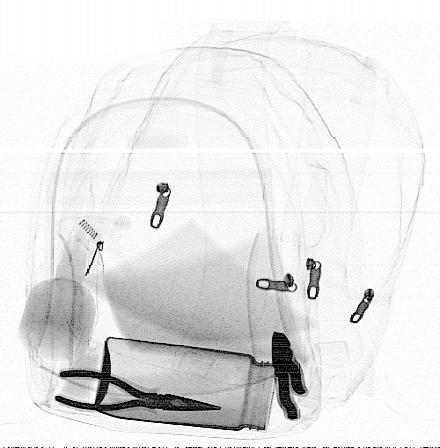Pliers: (52, 367, 223, 419), (270, 329, 309, 422)
